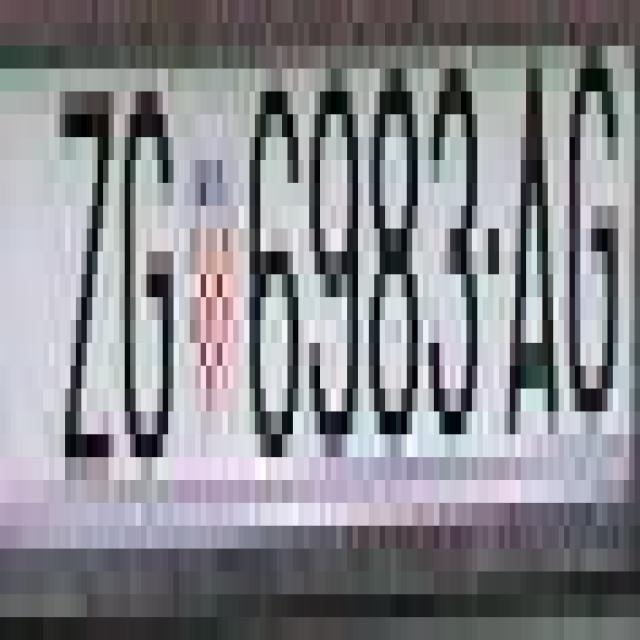3: (423, 91, 477, 412)
6: (249, 91, 293, 503)
8: (363, 23, 423, 434)
9: (310, 46, 364, 457)
A: (504, 46, 564, 434)
G: (114, 46, 179, 457), (570, 23, 629, 434)
Z: (54, 46, 109, 457)
